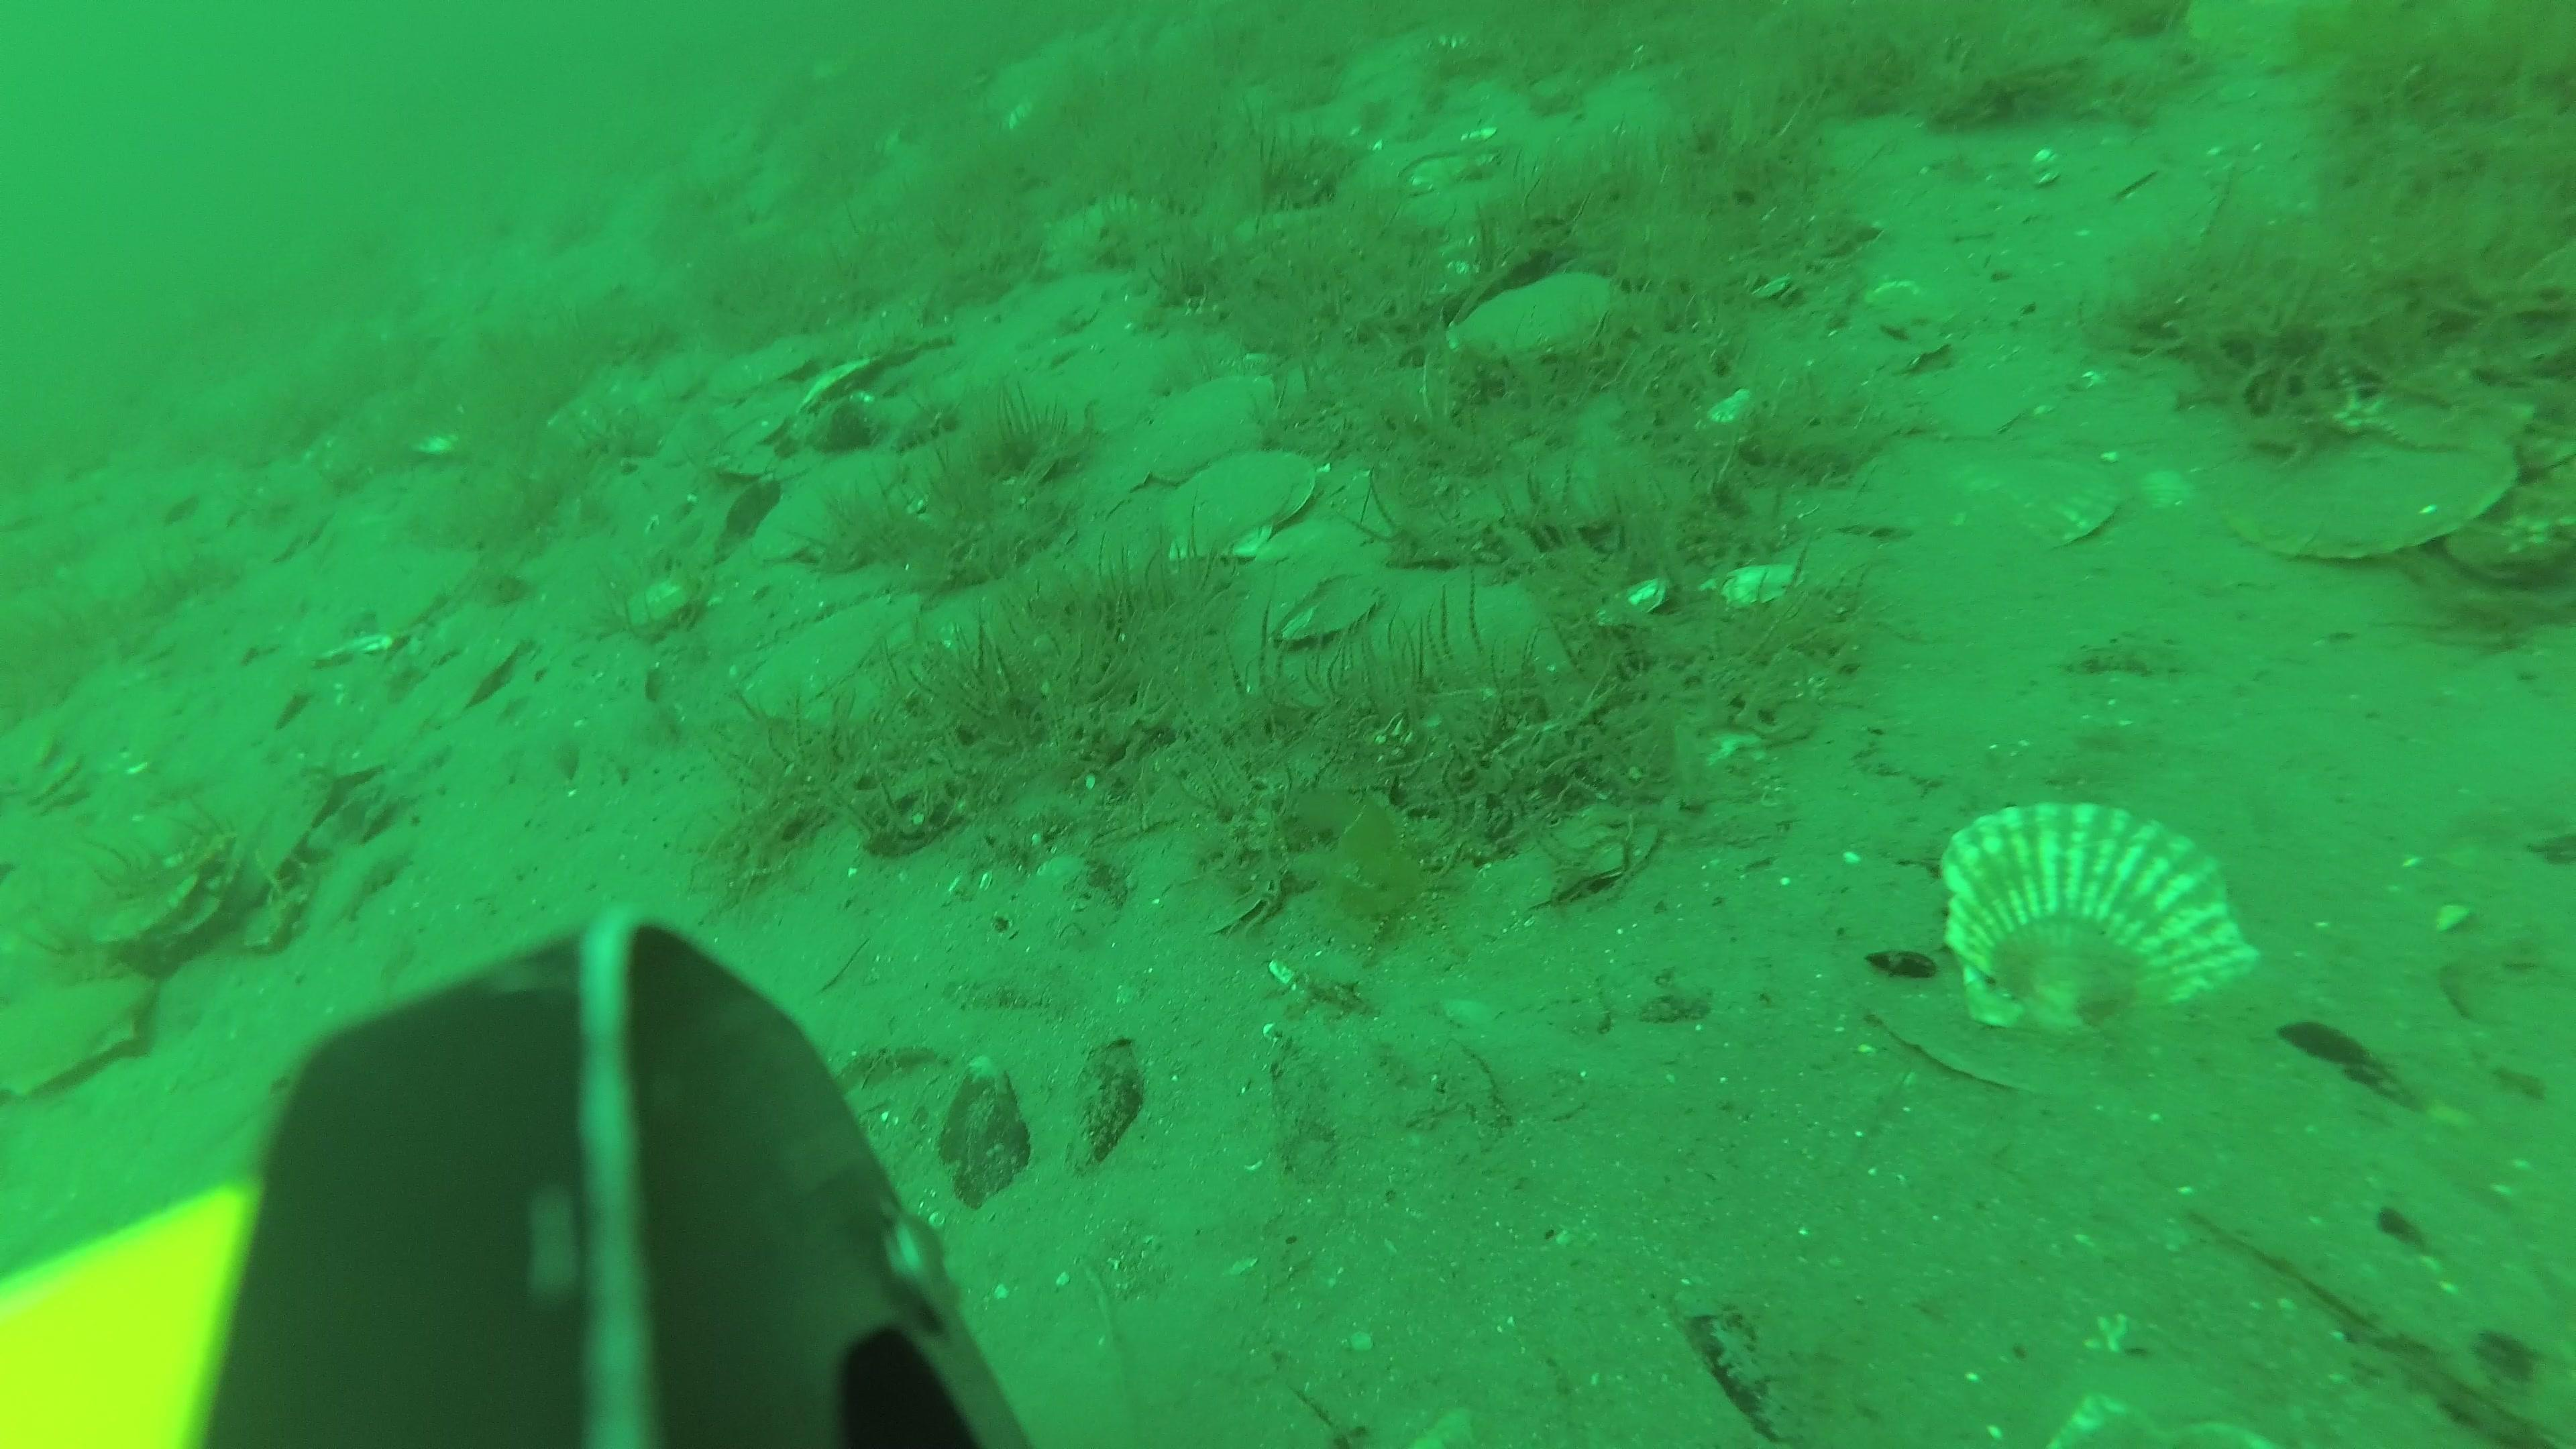scallop: (1927, 786, 2270, 1060), (2213, 347, 2541, 568), (5, 844, 170, 1102), (1902, 435, 2130, 564), (741, 586, 945, 722), (745, 439, 927, 570), (1155, 453, 1323, 571), (1458, 264, 1621, 372), (1132, 372, 1288, 483), (1265, 573, 1387, 660), (706, 329, 837, 407), (1704, 556, 1801, 614), (1589, 570, 1672, 632)
